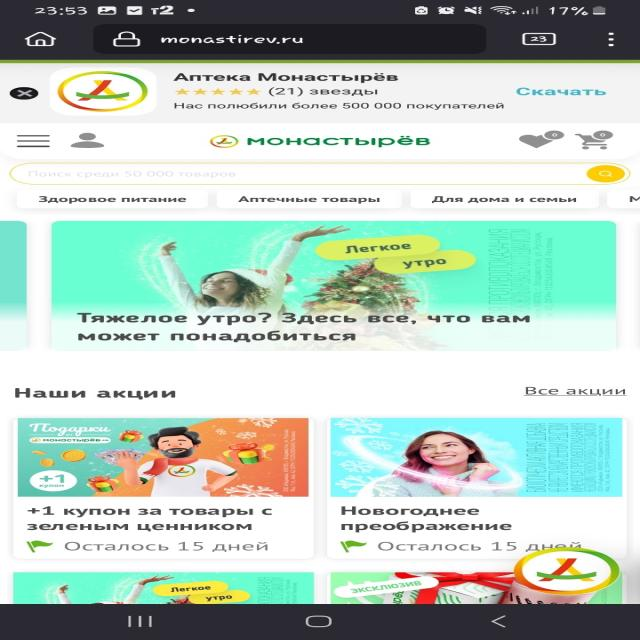button: (502, 83, 618, 102), (7, 85, 40, 102)
site: (0, 63, 640, 122)
